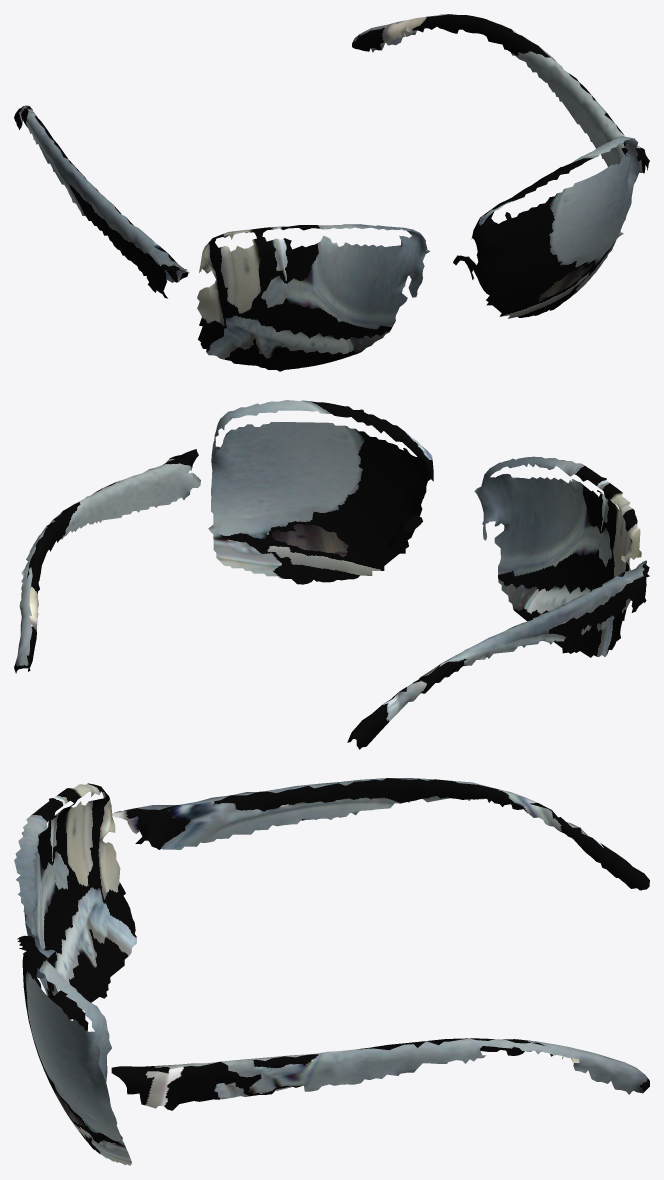
File: scan_align.obj
The picture shows the model from 3 angles, top to bottom: view 1: azimuth 30°, elevation 25°; view 2: azimuth 150°, elevation 25°; view 3: azimuth 270°, elevation 25°; orthographic projection. The views are drawn at different scales.
Bounding box in the file's own units: 0.1515 × 0.049 × 0.1488.
